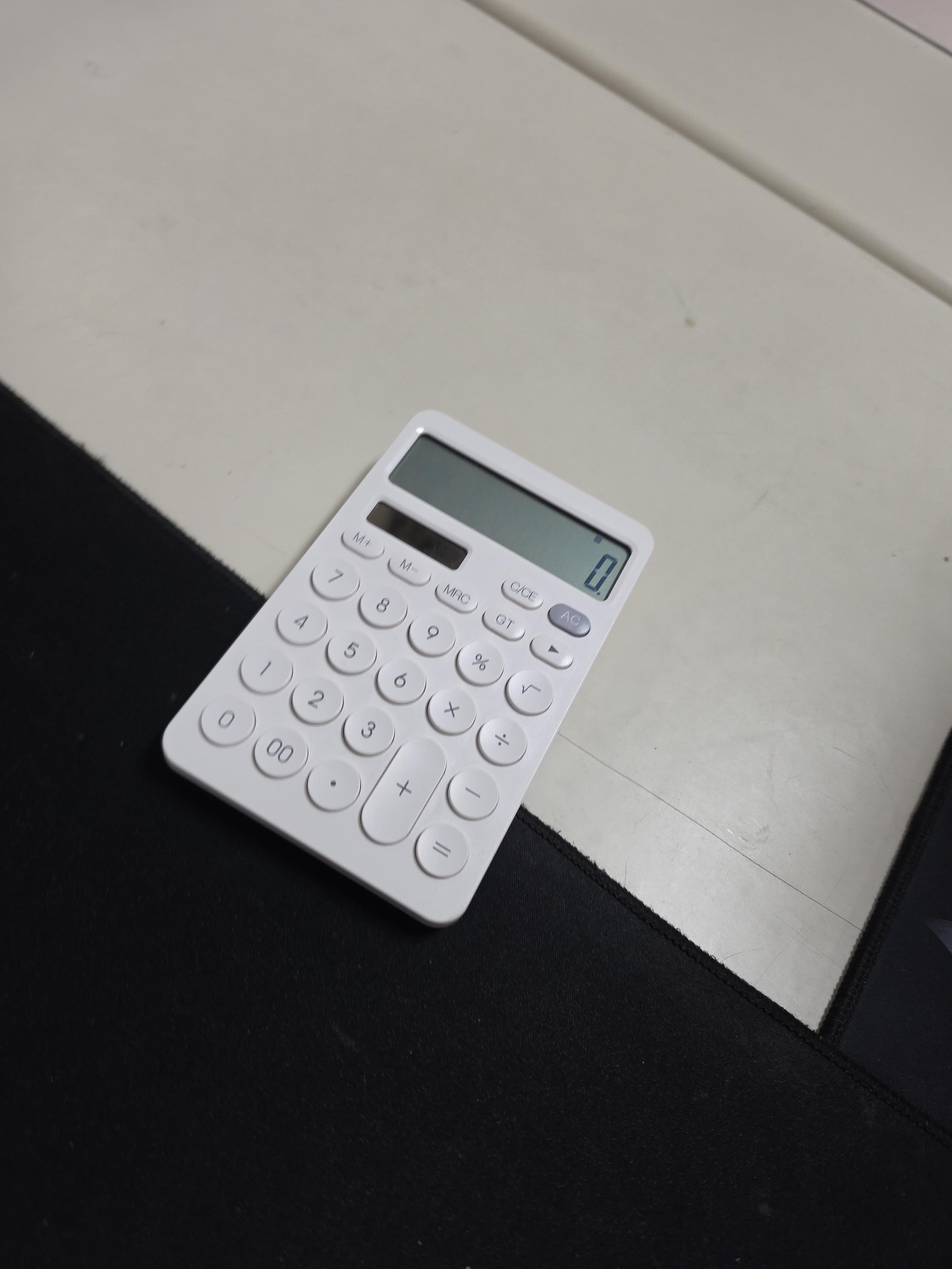calculator: (161, 408, 656, 928)
